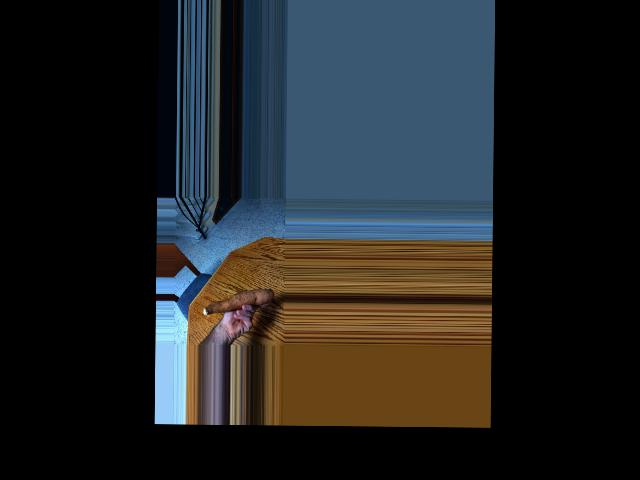sweet_potato: (200, 283, 272, 316)
